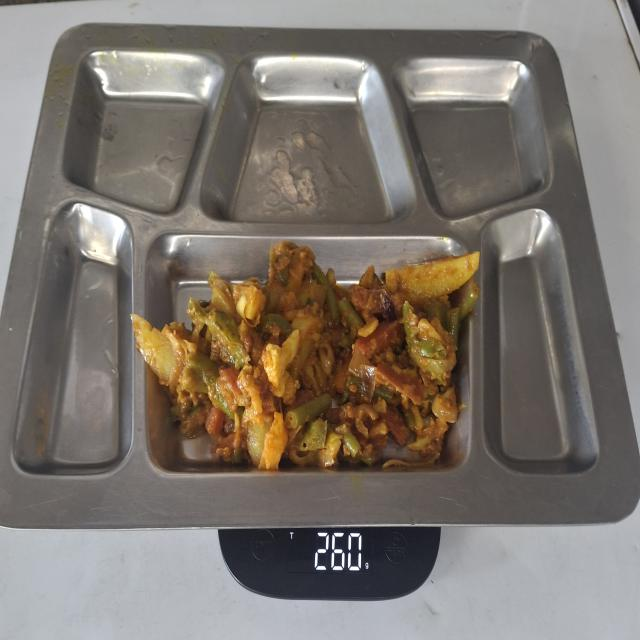Veg Jhalfrezi: (135, 242, 481, 472)
